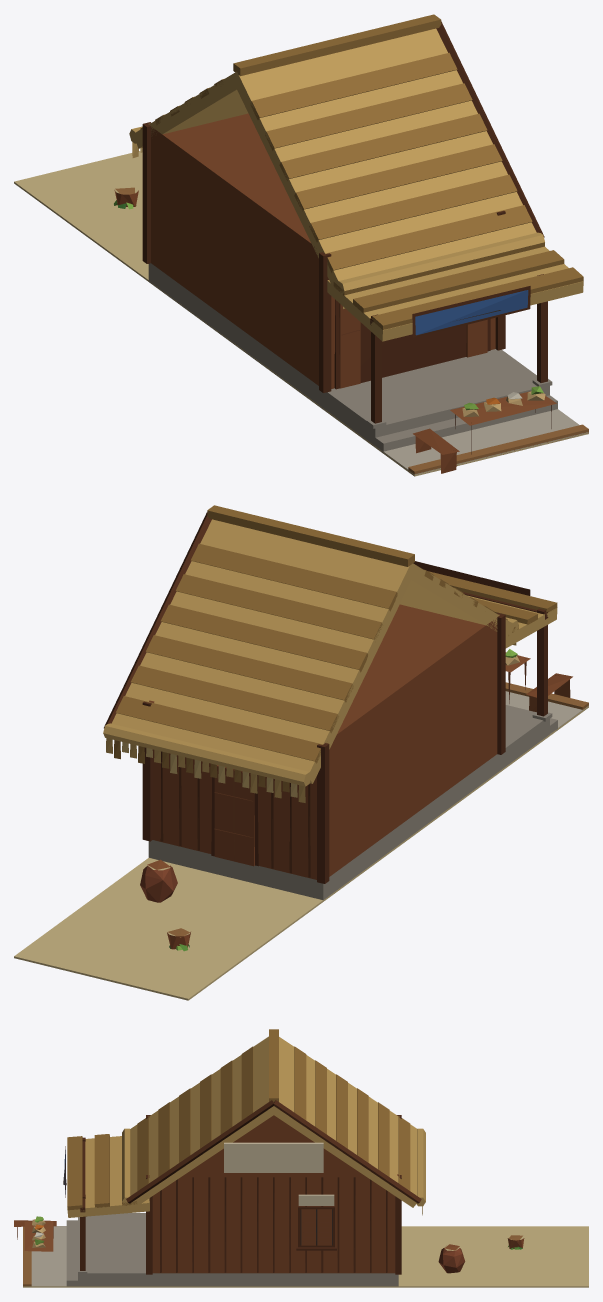
File: bay1_right.glb
The picture shows the model from 3 angles, top to bottom: view 1: azimuth 30°, elevation 25°; view 2: azimuth 150°, elevation 25°; view 3: azimuth 270°, elevation 25°; orthographic projection. The views are drawn at different scales.
Parts seen in each view (by area): view 1: body; view 2: body; view 3: body.
Part boxes in pixels (x1,y1,x2,y2): body: (14, 14, 588, 476); body: (14, 505, 588, 1000); body: (14, 1029, 588, 1287).
Bounding box in the file's own units: 4.83 × 6.44 × 16.15.
